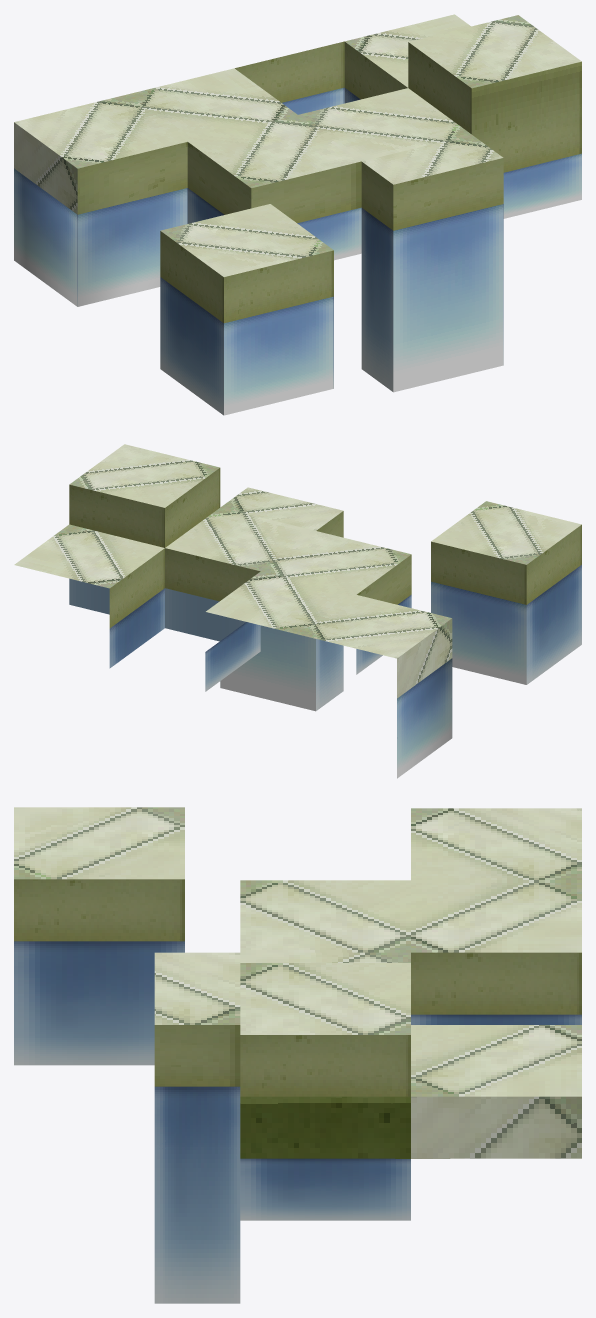
The model's file is a_ESDtoilet03.glb.
The picture shows the model from 3 angles, top to bottom: view 1: azimuth 30°, elevation 25°; view 2: azimuth 150°, elevation 25°; view 3: azimuth 270°, elevation 25°; orthographic projection. The views are drawn at different scales.
Parts seen in each view (by area): view 1: a_ESDtoilet03; view 2: a_ESDtoilet03; view 3: a_ESDtoilet03.
Part boxes in pixels (x1=…): a_ESDtoilet03: x1=14, y1=14, x2=581, y2=415; a_ESDtoilet03: x1=14, y1=444, x2=581, y2=778; a_ESDtoilet03: x1=14, y1=807, x2=581, y2=1303.
Bounding box in the file's own units: 2.01 × 1.1 × 1.66.
Materials: 3 (3 with a texture image).
